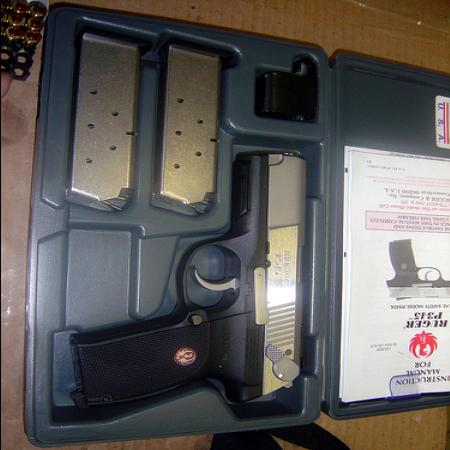Pistol: (67, 152, 313, 410)
